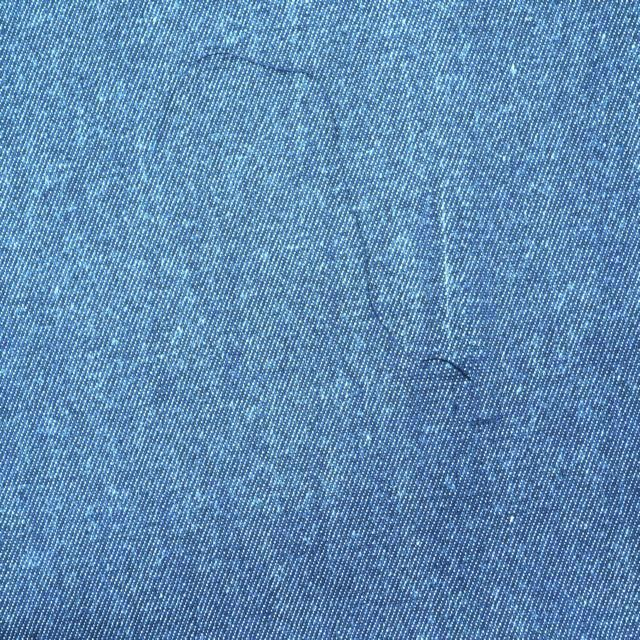defect: (199, 42, 480, 393)
